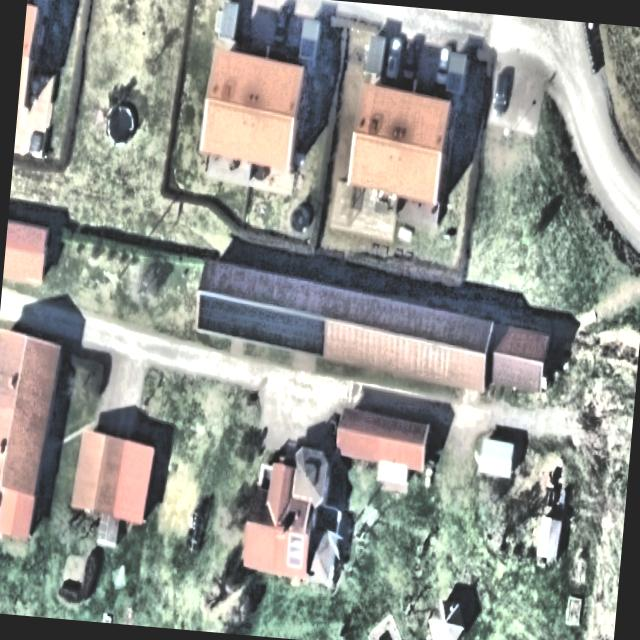roof_pv: (192, 292, 331, 358)
